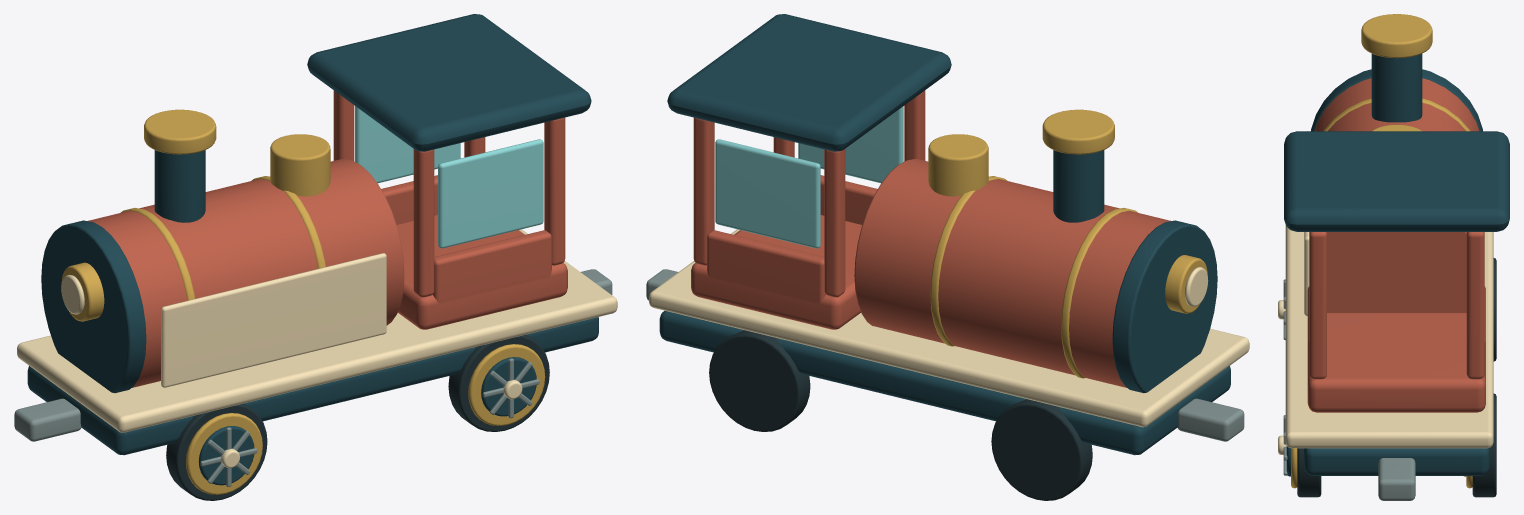
Rendered from engine.glb.
3 views of the same model, side by side, from view 1: azimuth 30°, elevation 25°; view 2: azimuth 150°, elevation 25°; view 3: azimuth 270°, elevation 25° (orthographic).
Parts seen in each view (by area): view 1: Boiler, Cab roof, Cream running board.001, Word plate, Smokebox front, Cast chassis.001, Cab window, Wheel -1.08 -0.001, Wheel 1.08 -0.001, Cab floor, Cab lower panel, Chimney (+12 smaller); view 2: Boiler, Cab roof, Cream running board.001, Cast chassis.001, Smokebox front, Cab window.001, Wheel -1.08 0.001, Wheel 1.08 0.001, Cab floor, Cab lower panel.001, Chimney, Steam dome (+11 smaller); view 3: Cab roof, Boiler, Cab floor, Cream running board.001, Cast chassis.001, Chimney, Cab pillar.003, Chimney rim, Cab pillar.002, Coupler.003, Wheel 1.08 -0.001, Smokebox front (+7 smaller).
Part boxes in pixels (x1,y1,x2,y2): Boiler: (88, 158, 404, 387); Cab roof: (307, 14, 591, 151); Cream running board.001: (17, 229, 617, 432); Word plate: (161, 253, 386, 387); Smokebox front: (41, 220, 146, 393); Cast chassis.001: (27, 317, 598, 455); Cab window: (438, 139, 543, 248); Wheel -1.08 -0.001: (166, 403, 267, 500); Wheel 1.08 -0.001: (448, 334, 549, 431); Cab floor: (396, 215, 567, 329); Cab lower panel: (432, 230, 551, 303); Chimney: (154, 150, 205, 222); Boiler: (854, 158, 1170, 387); Cab roof: (667, 14, 951, 151); Cream running board.001: (649, 229, 1249, 427); Cast chassis.001: (659, 311, 1230, 455); Smokebox front: (1112, 220, 1217, 393); Cab window.001: (715, 139, 820, 248); Wheel -1.08 0.001: (991, 399, 1092, 500); Wheel 1.08 0.001: (709, 330, 810, 431); Cab floor: (691, 215, 861, 329); Cab lower panel.001: (707, 230, 825, 303); Chimney: (1053, 150, 1104, 222); Steam dome: (928, 134, 988, 196); Cab roof: (1284, 131, 1509, 231); Boiler: (1314, 78, 1479, 312); Cab floor: (1307, 312, 1485, 412); Cream running board.001: (1285, 225, 1493, 448); Cast chassis.001: (1304, 448, 1489, 475); Chimney: (1371, 54, 1422, 122); Cab pillar.003: (1466, 232, 1484, 379); Chimney rim: (1361, 14, 1432, 58); Cab pillar.002: (1309, 232, 1326, 379); Coupler.003: (1378, 458, 1415, 500); Wheel 1.08 -0.001: (1278, 415, 1321, 497); Smokebox front: (1311, 69, 1482, 131).
Size of the model in its own units: 4.46 by 2.47 by 1.56.
